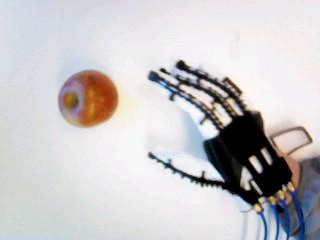apple: (56, 69, 119, 127)
hand: (145, 59, 294, 214)
